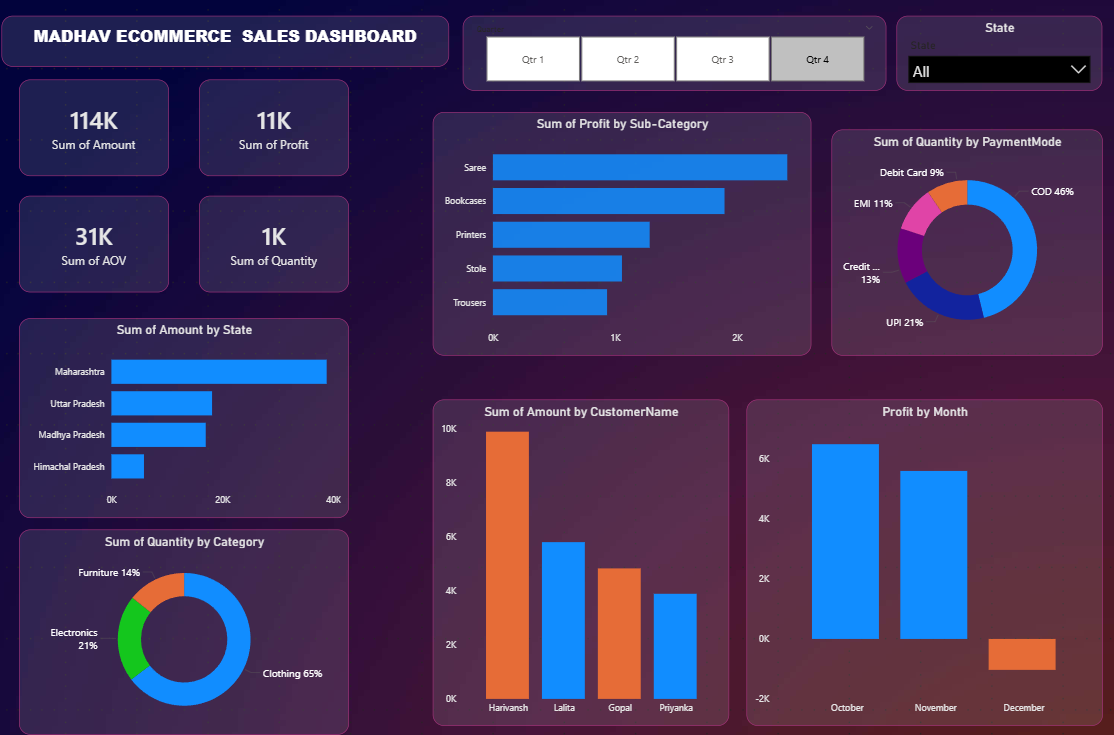

What the dashboard file says about the page in this screenshot:
{"tool":"powerbi","page":{"name":"Page 1","canvas":[1500,1000],"ordinal":0},"visuals":[{"type":"textbox","title":"MADHAV ECOMMERCE  SALES DASHBOARD","box":[10,25,596.7,68.3],"z":0},{"type":"columnChart","title":"Profit by Month","fields":{"Category":["Orders.Order Date.Variation.Date Hierarchy.Month"],"Y":["Sum(Details.Profit)"]},"box":[1003.3,536.7,475,435],"z":1000},{"type":"barChart","fields":{"Category":["Details.Sub-Category"],"Y":["Sum(Details.Profit)"]},"box":[585,153.3,505,325],"z":2000},{"type":"donutChart","fields":{"Category":["Details.Category"],"Y":["Sum(Details.Quantity)"]},"box":[33.3,710,440,273.3],"z":3000},{"type":"donutChart","fields":{"Y":["Sum(Details.Quantity)"],"Category":["Details.PaymentMode"]},"box":[1116.7,176.7,361.7,301.7],"z":4000},{"type":"cardVisual","fields":{"Data":["Sum(Details.Amount)"]},"box":[32.9,110,200,128.6],"z":5000},{"type":"cardVisual","fields":{"Data":["Sum(Details.Quantity)"]},"box":[272.9,264.3,200,128.6],"z":6000},{"type":"cardVisual","fields":{"Data":["Sum(Details.Profit)"]},"box":[272.9,110,200,128.6],"z":7000},{"type":"cardVisual","fields":{"Data":["Sum(Details.AOV)"]},"box":[32.9,264.3,200,128.6],"z":8000},{"type":"clusteredBarChart","fields":{"Category":["Orders.State"],"Y":["Sum(Details.Amount)"]},"box":[33.3,428.3,440,266.7],"z":9000},{"type":"columnChart","fields":{"Y":["Sum(Details.Amount)"],"Category":["Orders.CustomerName"]},"box":[585,536.7,395,435],"z":10000},{"type":"slicer","fields":{"Values":["Orders.Order Date.Variation.Date Hierarchy.Quarter"]},"box":[625,25,565,100],"z":11000},{"type":"slicer","title":"State","fields":{"Values":["Orders.State"]},"box":[1202.9,24.3,274.3,100],"z":12000}]}

Visuals, with their boxes in screenshot pixels (x1, y1, x2, y2), scaled from the page's 1500x1000 canvas onto the 1114x735 screenshot:
"MADHAV ECOMMERCE  SALES DASHBOARD" textbox: 7,18,451,69
"Profit by Month" columnChart: 745,394,1098,714
barChart - Details.Sub-Category x Sum(Details.Profit): 434,113,810,352
donutChart - Details.Category x Sum(Details.Quantity): 25,522,352,723
donutChart - Sum(Details.Quantity) x Details.PaymentMode: 829,130,1098,352
cardVisual - Sum(Details.Amount): 24,81,173,175
cardVisual - Sum(Details.Quantity): 203,194,351,289
cardVisual - Sum(Details.Profit): 203,81,351,175
cardVisual - Sum(Details.AOV): 24,194,173,289
clusteredBarChart - Orders.State x Sum(Details.Amount): 25,315,352,511
columnChart - Sum(Details.Amount) x Orders.CustomerName: 434,394,728,714
slicer - Orders.Order Date.Variation.Date Hierarchy.Quarter: 464,18,884,92
"State" slicer: 893,18,1097,91
